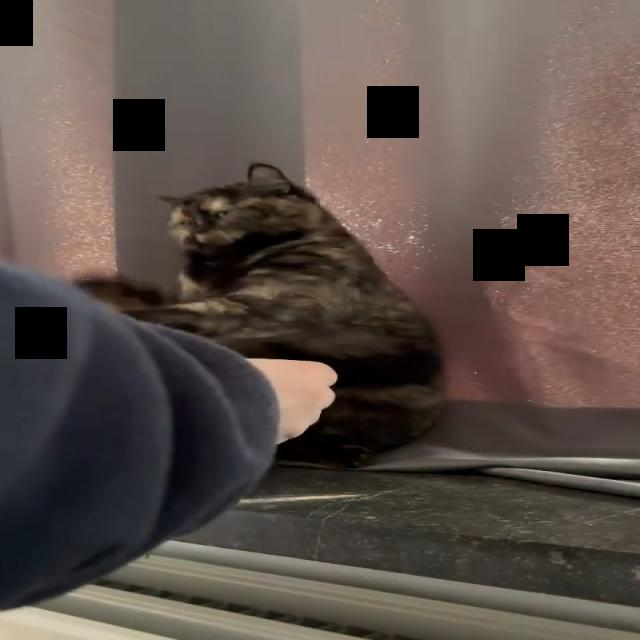authorized: (77, 162, 448, 468)
